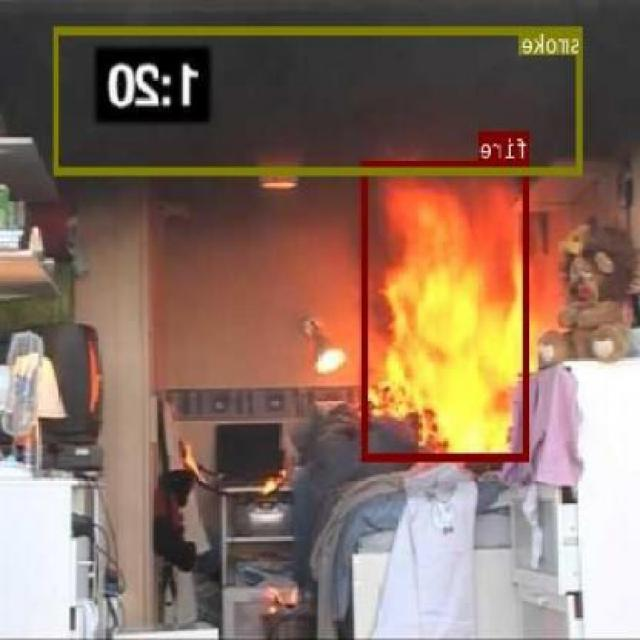Fire: (364, 158, 530, 460)
Smoke: (56, 25, 584, 173)
